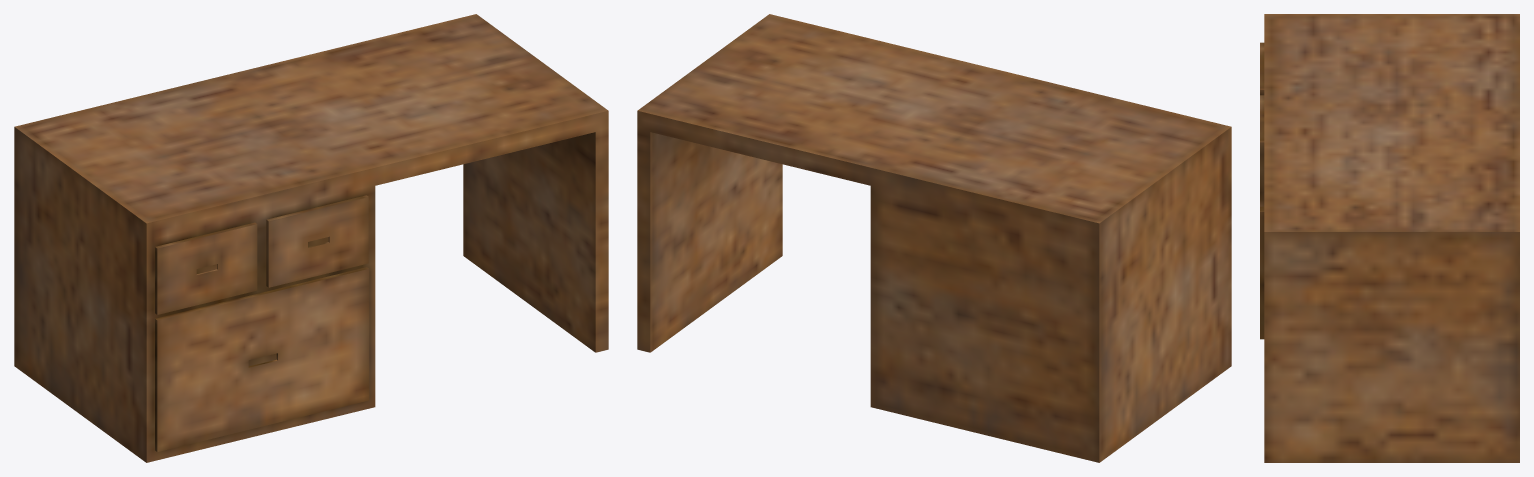
File: desk.glb
3 renders of one model, left to right at view 1: azimuth 30°, elevation 25°; view 2: azimuth 150°, elevation 25°; view 3: azimuth 270°, elevation 25°, orthographic. The views are drawn at different scales.
Visible parts, largest first — view 1: desk; view 2: desk; view 3: desk.
Boxes of the visible parts, x1,y1,x2,y2 form: desk: (14, 14, 608, 462); desk: (637, 14, 1231, 462); desk: (1260, 14, 1519, 462).
Size of the model in its own units: 1.61 by 0.797 by 0.8109.
1 material, 1 textured.
